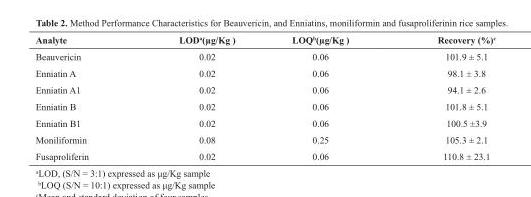table: (34, 34, 494, 161)
table column: (262, 34, 392, 161), (133, 34, 262, 161), (392, 34, 494, 161), (34, 34, 133, 161)
table column header: (34, 34, 494, 47)
table row: (34, 47, 494, 64), (34, 64, 494, 81), (34, 97, 494, 114), (34, 114, 494, 131), (34, 81, 494, 97), (34, 131, 494, 147), (34, 147, 494, 161), (34, 34, 494, 47)
